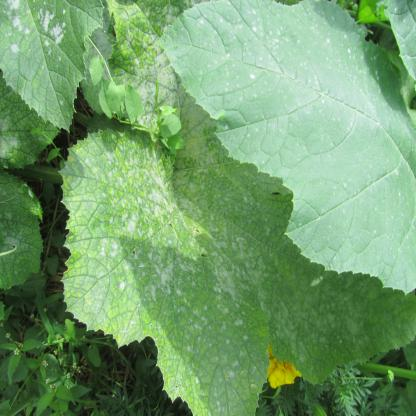squash powdery mildew leaf: (153, 1, 415, 297), (67, 3, 215, 157), (2, 1, 107, 133)
